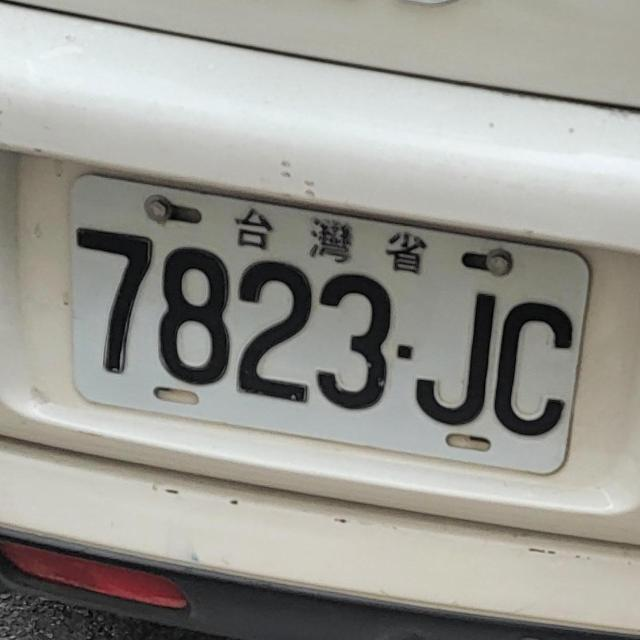W: (67, 150, 557, 506)
